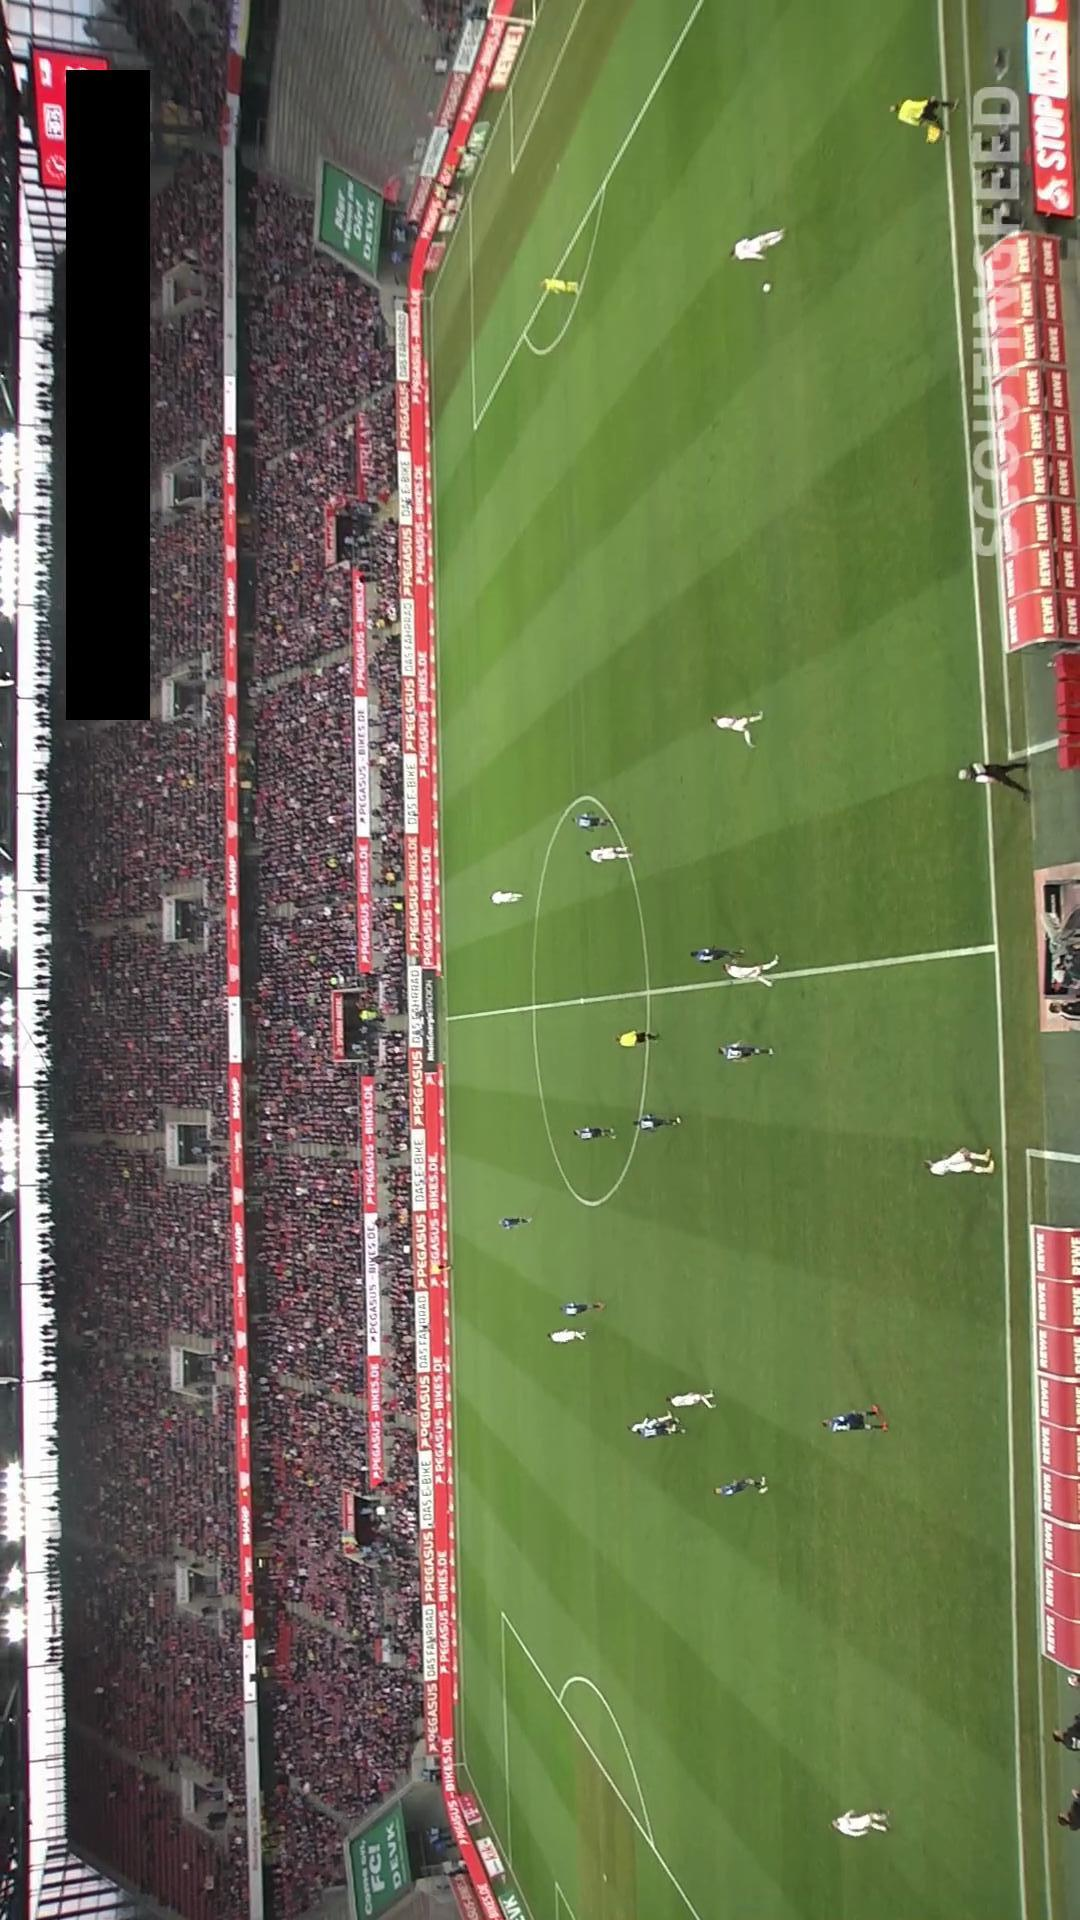ball: (762, 282, 773, 294)
goalkeeper: (538, 278, 580, 295)
player: (727, 226, 786, 262), (710, 710, 764, 749), (922, 1147, 994, 1176), (721, 954, 780, 987), (820, 1405, 889, 1433), (830, 1808, 890, 1836), (716, 1040, 774, 1061), (713, 1476, 768, 1497), (626, 1410, 674, 1433), (637, 1417, 686, 1438), (631, 1113, 680, 1133), (665, 1390, 716, 1409), (689, 947, 745, 964), (572, 812, 614, 832), (558, 1300, 606, 1317), (584, 846, 632, 863), (572, 1126, 617, 1141), (546, 1328, 588, 1343), (489, 890, 523, 905), (498, 1216, 532, 1230)
referee: (889, 96, 959, 143), (613, 1029, 660, 1047), (427, 1262, 455, 1272)
